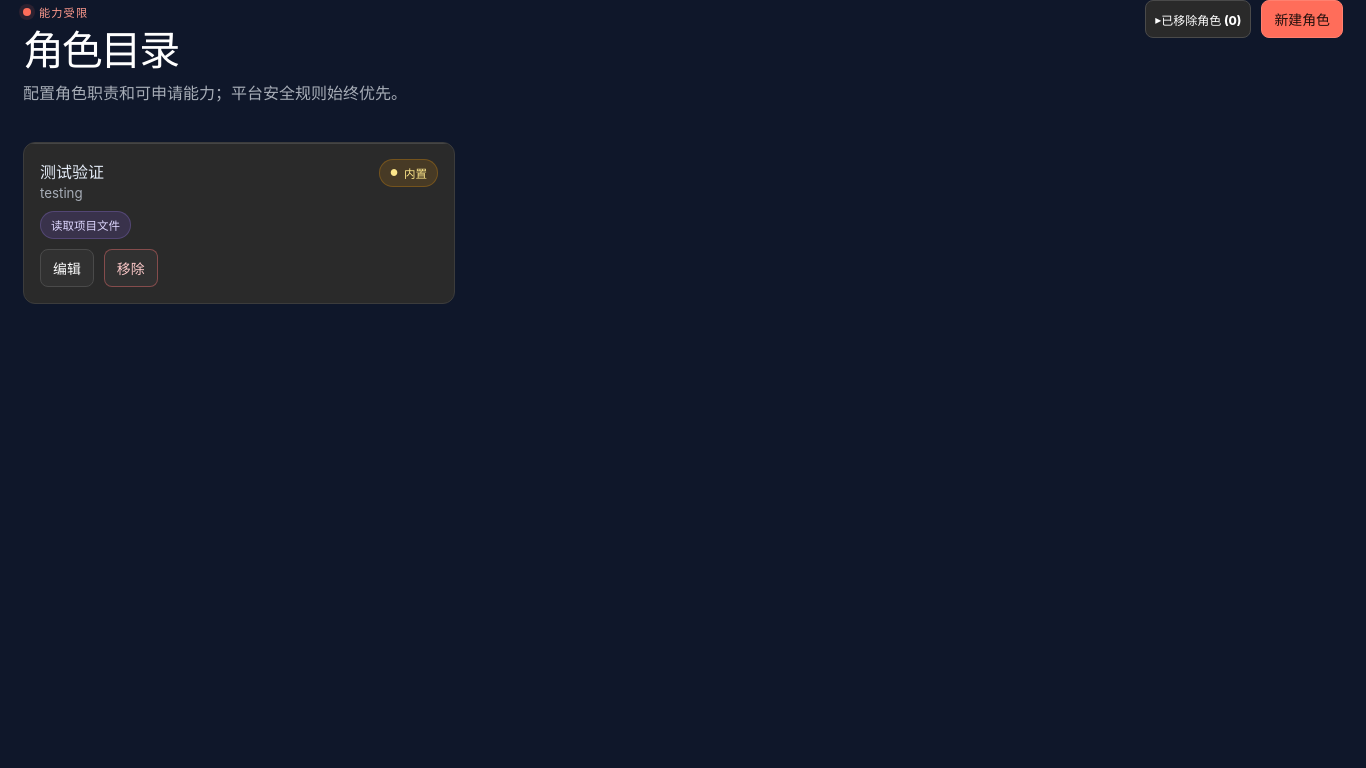
it: opens the form in a drawer so the catalog stays on screen
Expected: the text "测试验证" is shown, [40,162,104,182]
Click the button "新建角色".
click(1302, 19)  # box [1261,0,1343,38]
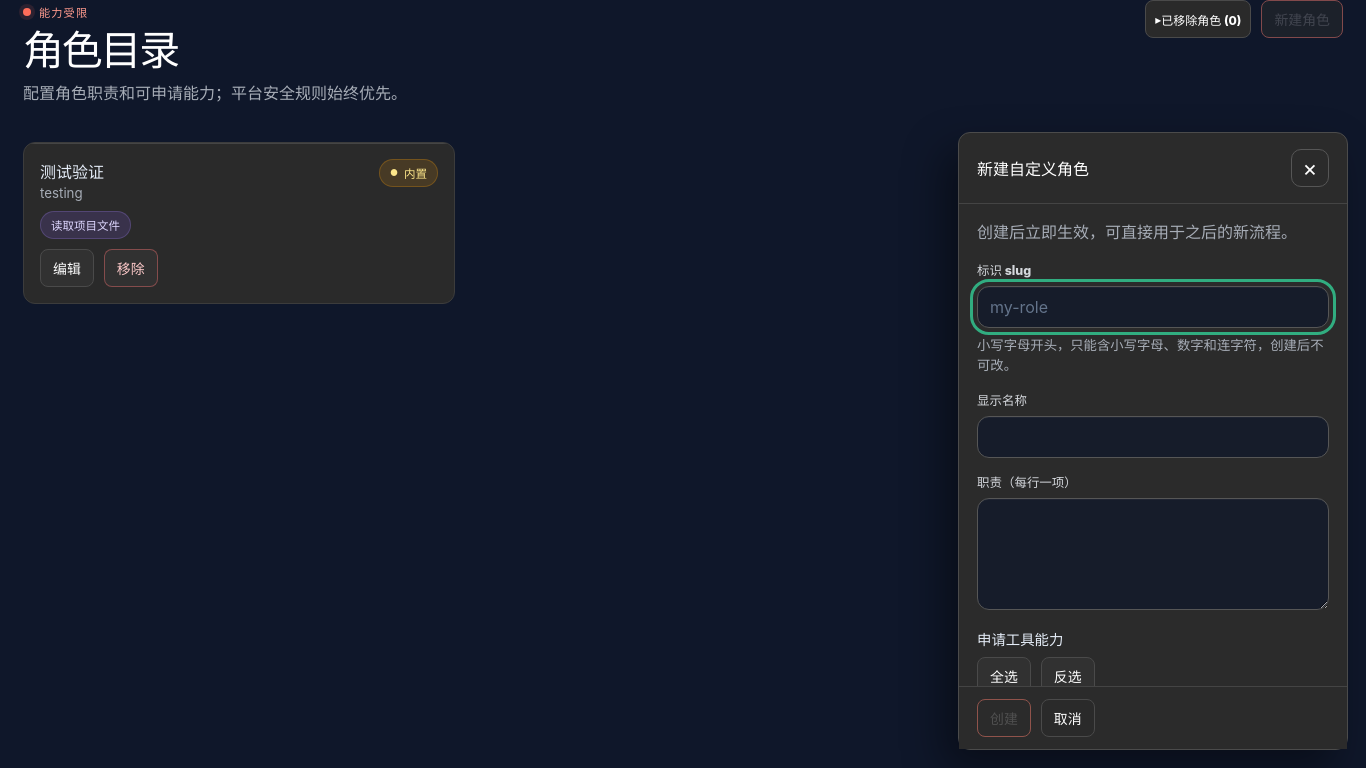
Expected: the text "测试验证" is shown, [40,162,104,182]
Now the dialog "新建自定义角色" is shown, box [958,132,1348,750]
Press Escape
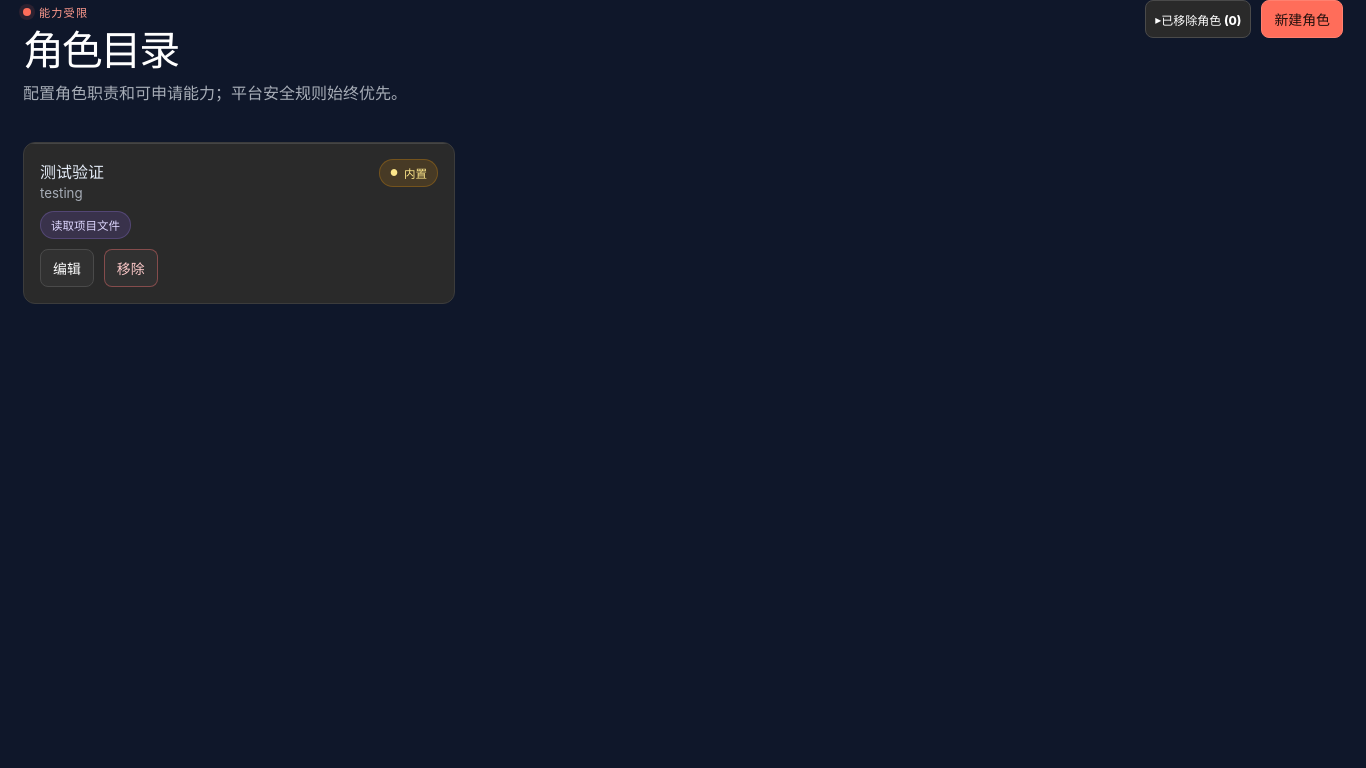
Now the dialog is gone
